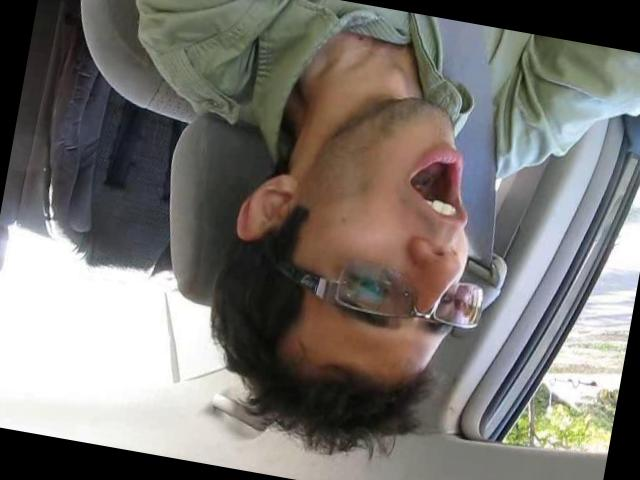eye_open: (342, 268, 401, 306)
face: (276, 80, 505, 366)
mouth_open: (398, 138, 473, 224)
